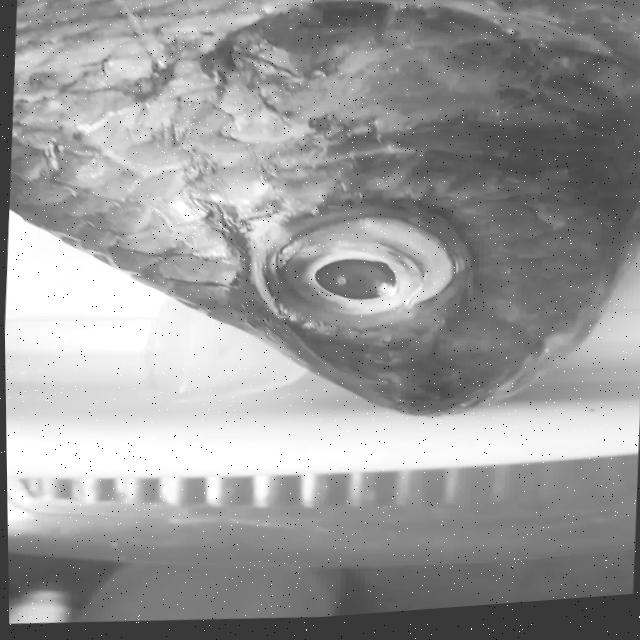Fresh: (231, 196, 471, 349)
